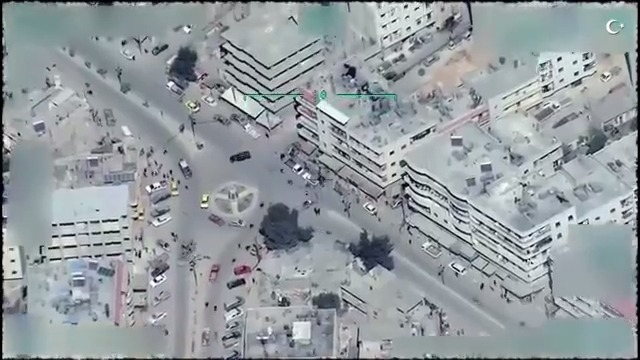arac: (412, 234, 447, 260), (598, 61, 624, 85), (444, 258, 468, 278), (219, 306, 249, 322), (360, 195, 381, 217), (228, 147, 255, 164), (149, 288, 173, 307), (225, 273, 250, 291), (117, 42, 138, 63), (281, 156, 303, 176), (212, 106, 229, 131), (228, 107, 249, 127), (175, 155, 193, 178), (151, 40, 172, 59), (142, 176, 165, 193), (147, 272, 171, 288), (147, 310, 172, 325), (420, 50, 443, 66), (228, 262, 254, 276), (161, 78, 185, 93), (167, 178, 182, 199), (206, 260, 221, 281), (153, 213, 174, 228), (224, 294, 247, 307), (185, 99, 202, 115), (199, 191, 211, 209)
bina: (391, 96, 555, 251), (465, 162, 574, 290), (29, 172, 141, 273), (215, 12, 337, 102)
